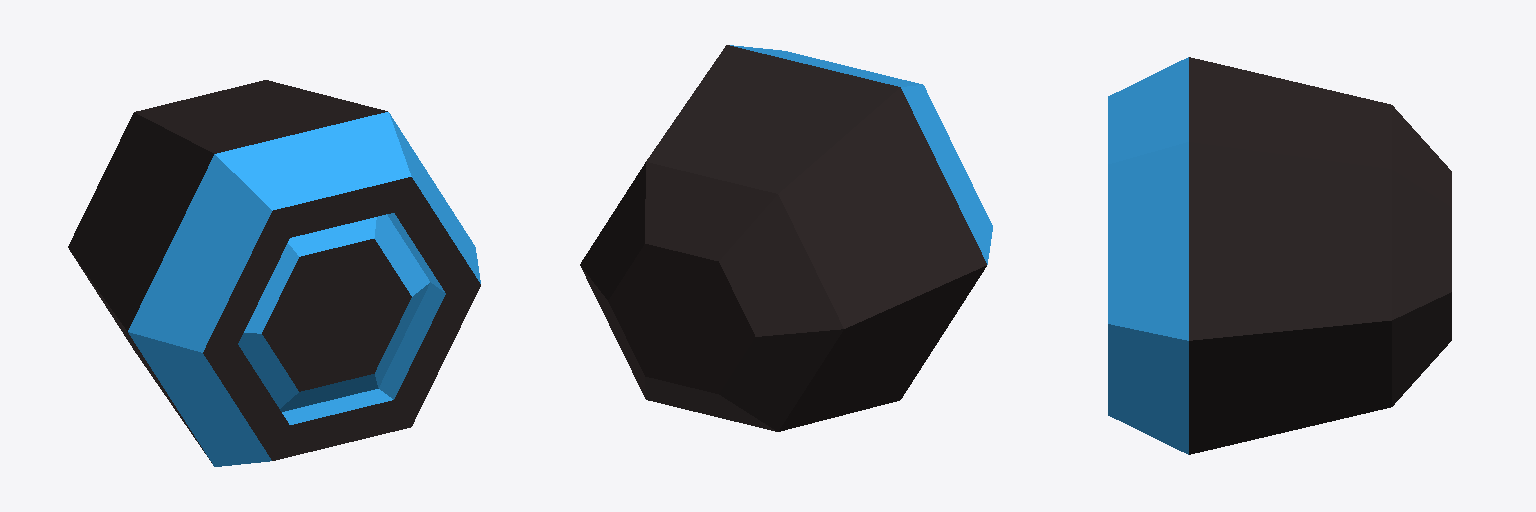
The model's file is grenade.obj.
The picture shows the model from 3 angles: view 1: azimuth 30°, elevation 25°; view 2: azimuth 150°, elevation 25°; view 3: azimuth 270°, elevation 25°; orthographic projection.
Size of the model in its own units: 0.77 by 0.6622 by 0.6596.